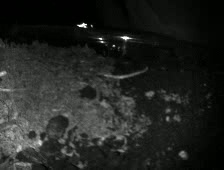corn: (1, 68, 9, 78)
